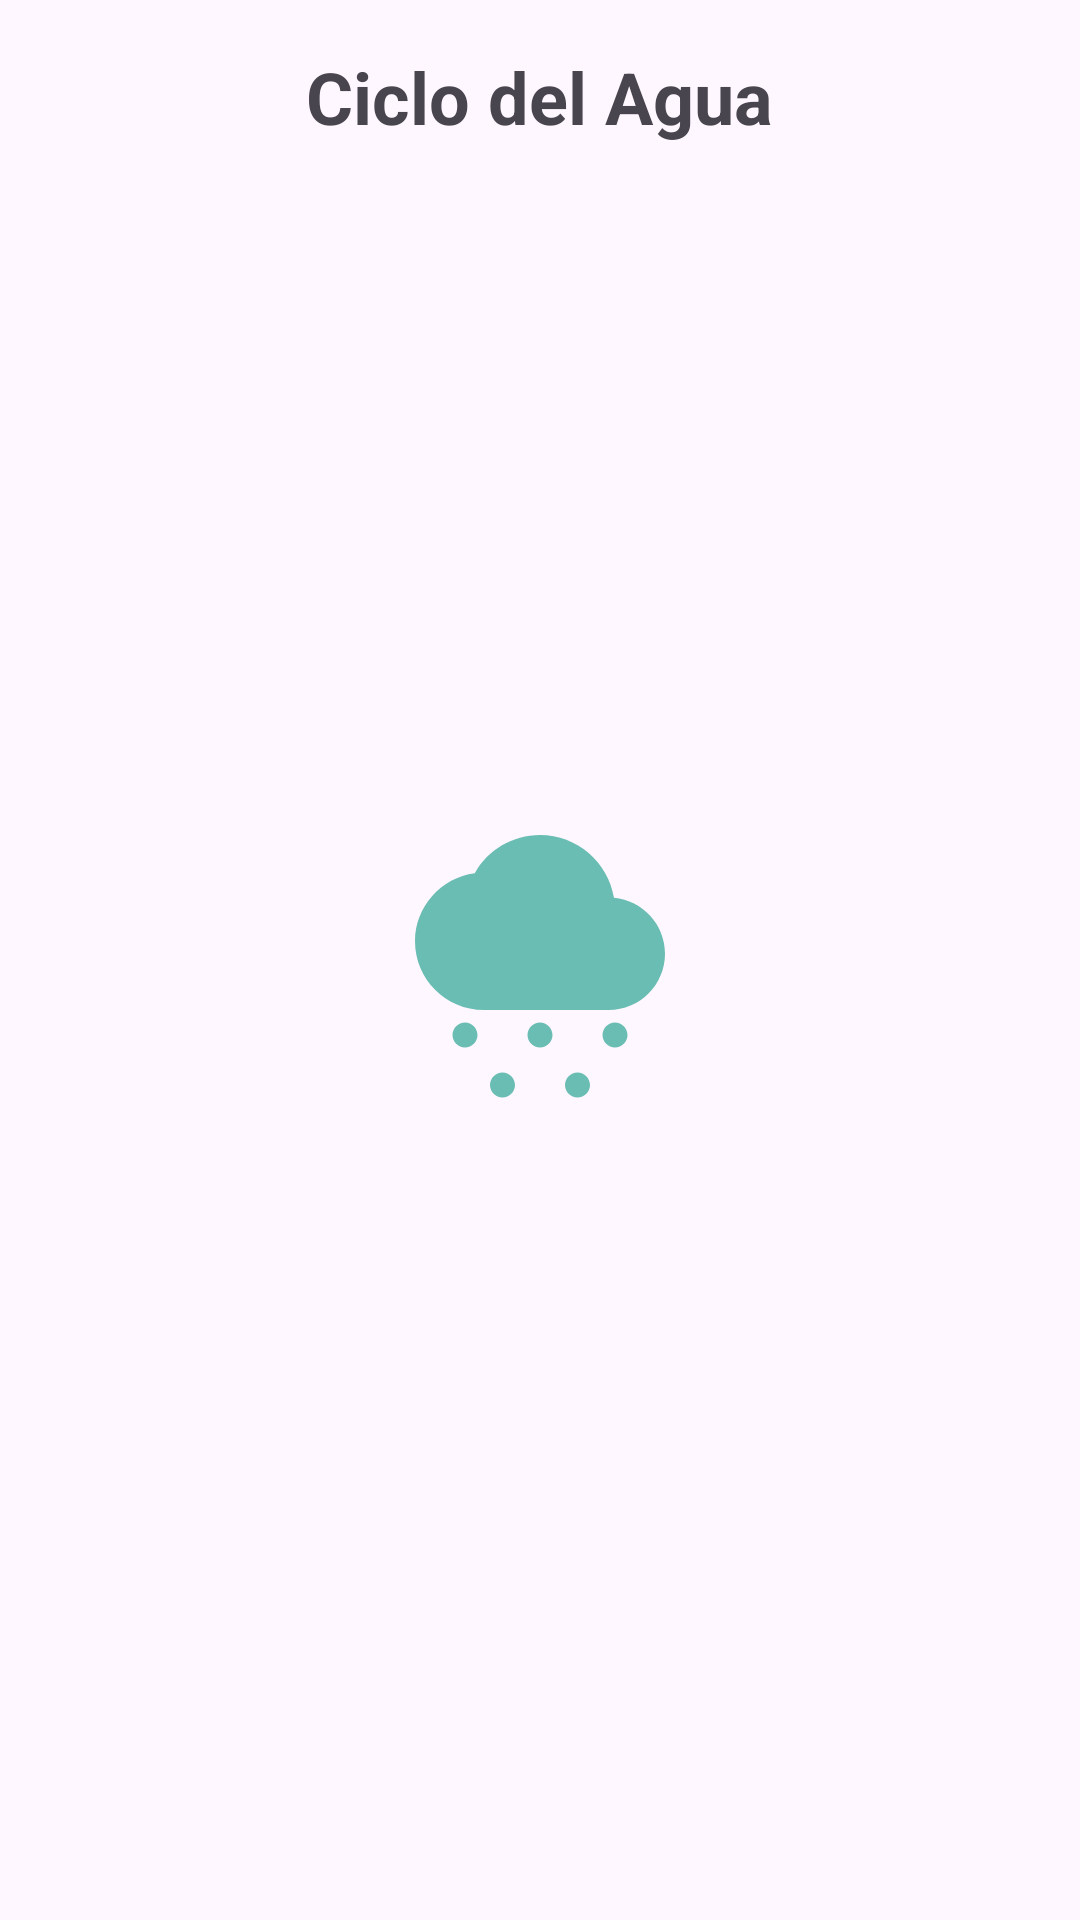

Icons on this 1080px x 1920px Android screen, each with the point to tap as point (x, y):
raindrop: point (540, 966)
